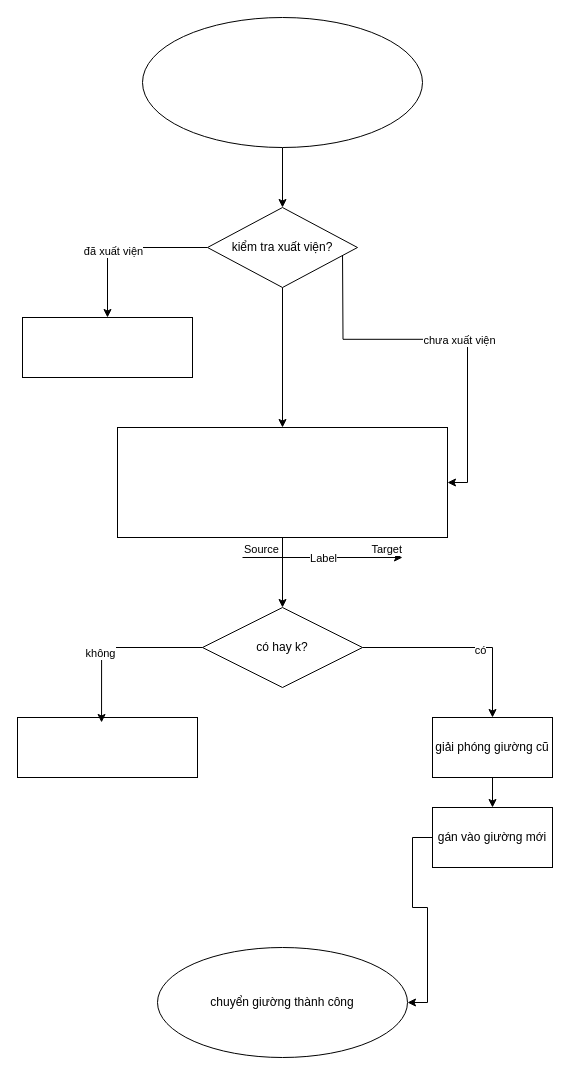
The diagram is 570 pixels wide and 1075 high, and some of its shapes have lost their labels. Here are the shapes that lost their labels. From the top down, the box of each, then its label:
(142, 16, 422, 148): Y tá nhập patient_ID Dept_id
(22, 316, 192, 378): Lỗi : bệnh nhân đã xuất viện
(116, 426, 448, 538): dò giường trống
